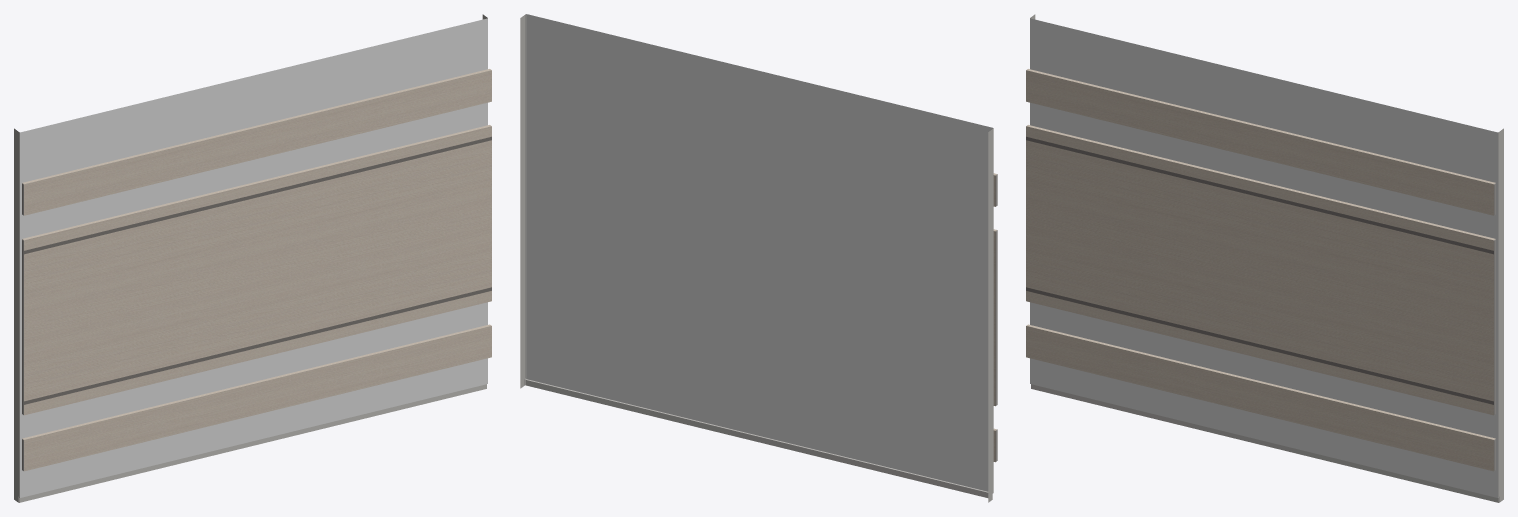
Rendered from MMo_W_001_a_14x10.fbx.
3 renders of one model, left to right at view 1: azimuth 30°, elevation 25°; view 2: azimuth 150°, elevation 25°; view 3: azimuth 330°, elevation 25°, orthographic.
Parts seen in each view (by area): view 1: MMo_W_001_a_14x10; view 2: MMo_W_001_a_14x10; view 3: MMo_W_001_a_14x10.
Part boxes in pixels (x1,y1,x2,y2): MMo_W_001_a_14x10: [14, 14, 491, 502]; MMo_W_001_a_14x10: [520, 14, 997, 502]; MMo_W_001_a_14x10: [1026, 14, 1503, 502].
Size of the model in its own units: 14 by 10.6 by 0.5002.
